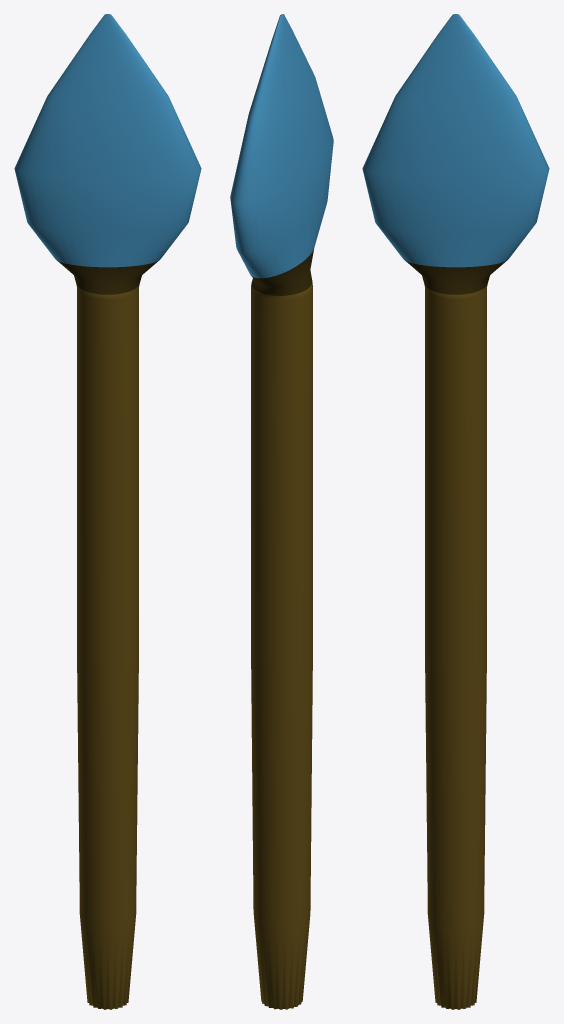
File: lança.fbx
3 renders of one model, left to right at view 1: azimuth 90°, elevation 25°; view 2: azimuth 150°, elevation 25°; view 3: azimuth 270°, elevation 25°, orthographic.
Visible parts, largest first — view 1: pCylinder1; view 2: pCylinder1; view 3: pCylinder1.
Part boxes in pixels (x1=…): pCylinder1: x1=14, y1=14, x2=201, y2=1009; pCylinder1: x1=230, y1=14, x2=333, y2=1009; pCylinder1: x1=362, y1=14, x2=549, y2=1009.
Bounding box in the file's own units: 0.2794 × 4.89 × 0.8398.
